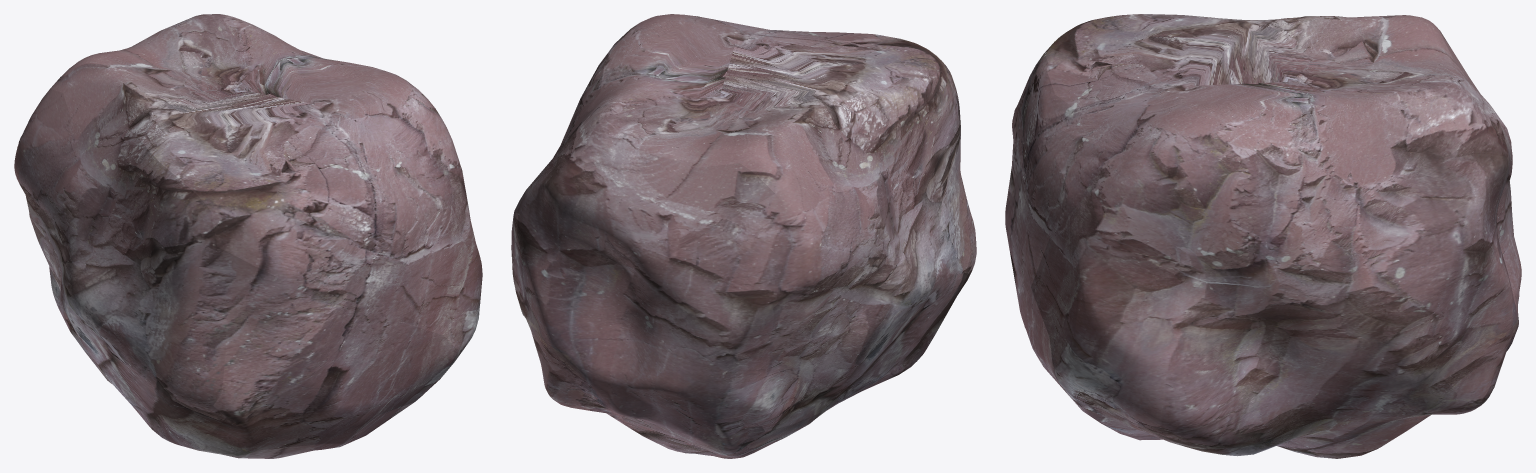
The model's file is Rock3.FBX.
3 views of the same model, side by side, from view 1: azimuth 30°, elevation 25°; view 2: azimuth 150°, elevation 25°; view 3: azimuth 270°, elevation 25° (orthographic). The views are drawn at different scales.
Parts seen in each view (by area): view 1: Box001; view 2: Box001; view 3: Box001.
Boxes of the visible parts, box(x1,y1,x2,y2) form: Box001: box(14, 14, 482, 458); Box001: box(511, 14, 976, 458); Box001: box(1005, 14, 1521, 458).
Bounding box in the file's own units: 479 × 452 × 548.
Materials: 1 (1 with a texture image).
